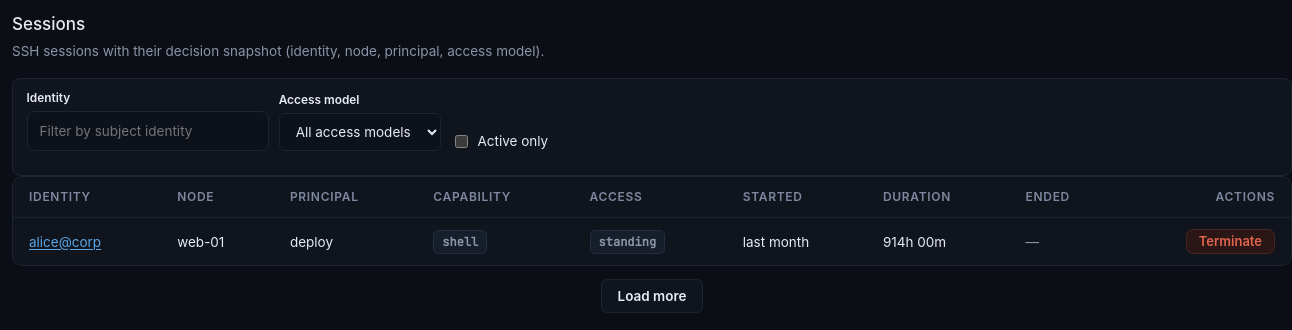
Scenario: SessionPage › lists sessions with access badges and paginates
Expected: the button "alice@corp" is shown, [29, 232, 101, 252]
Expected: the text "standing" is shown, [590, 230, 665, 254]
Click the button "Load more" at x=652, y=296, box [600, 279, 704, 313]
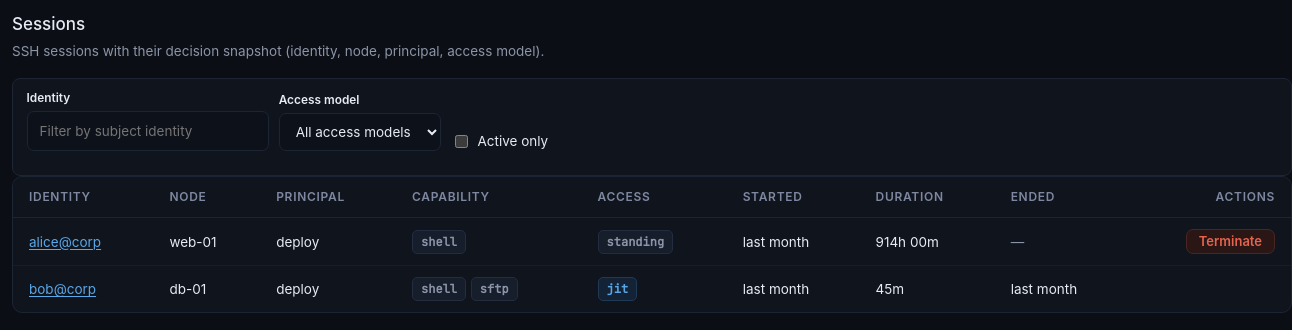
Now the button "bob@corp" is shown, box [29, 279, 96, 300]
Now the text "jit" is shown, box [598, 278, 637, 302]
Now the button "Load more" is gone
